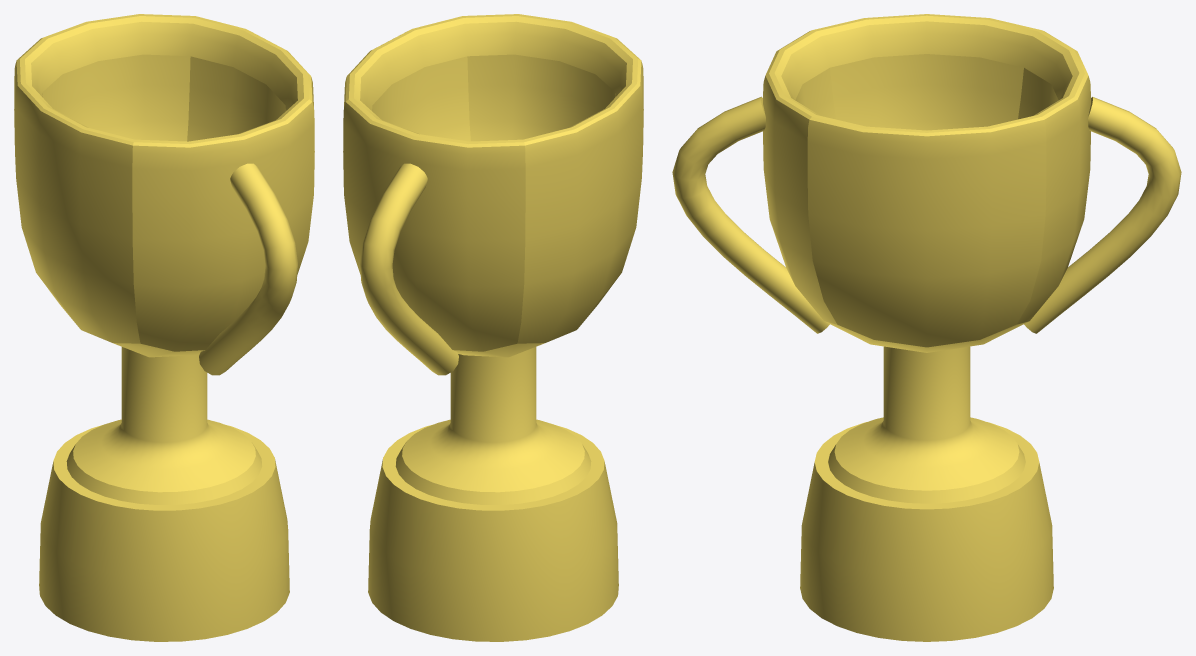
The model's file is GoldCup 1.fbx.
The picture shows the model from 3 angles, left to right: view 1: azimuth 30°, elevation 25°; view 2: azimuth 150°, elevation 25°; view 3: azimuth 270°, elevation 25°; orthographic projection.
Visible parts, largest first — view 1: Cube; view 2: Cube; view 3: Cube.
Part boxes in pixels (bbox=[...]): Cube: bbox=[14, 14, 314, 641]; Cube: bbox=[343, 14, 643, 641]; Cube: bbox=[672, 14, 1181, 641].
Size of the model in its own units: 181 by 351 by 315.
